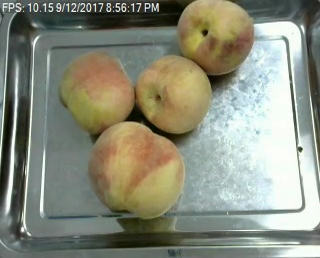Peach: (87, 121, 184, 219), (56, 49, 135, 133), (136, 54, 211, 135), (175, 0, 254, 75)
